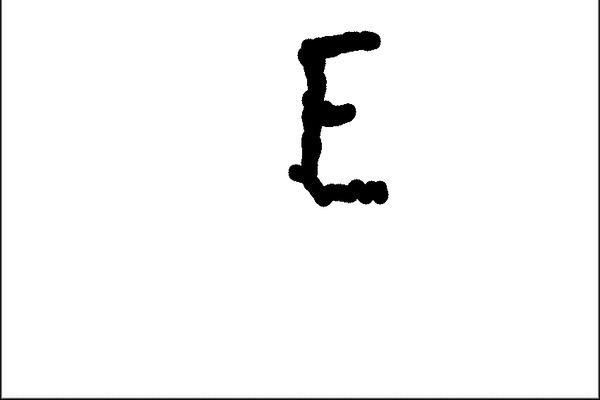E: (282, 22, 402, 211)
